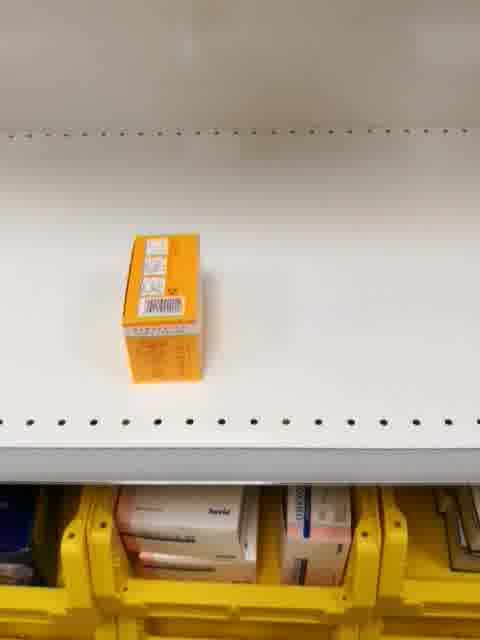jasminetea: (122, 232, 205, 383)
